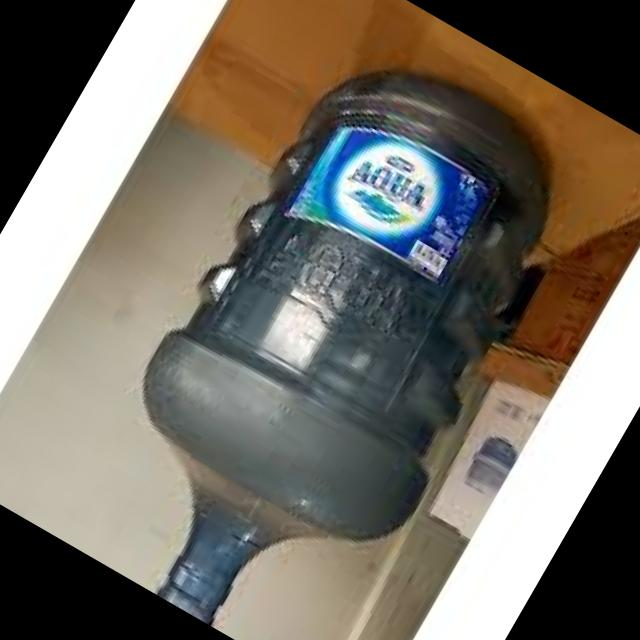Galon: (48, 20, 612, 640)
